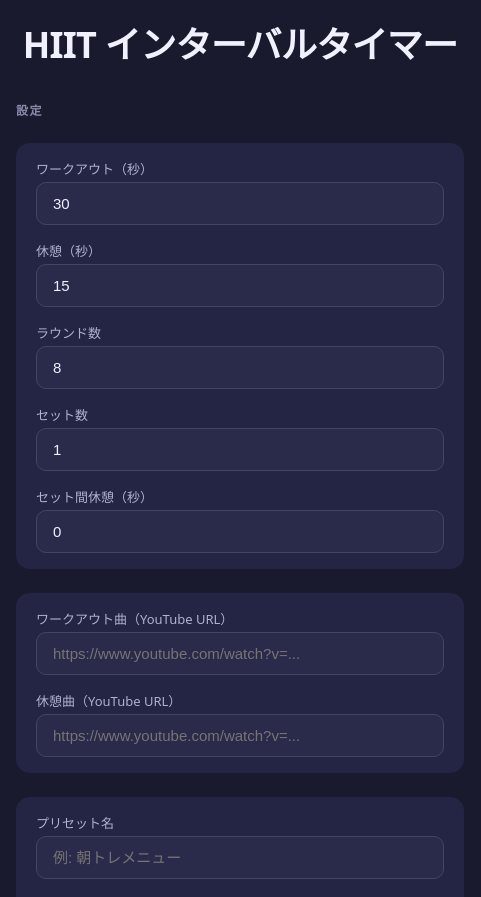
App 統合テスト › 不正なYouTube URLでバリデーションエラーが表示される
This screenshot has width=481, height=897.
Type "https://evil.com/watch?v=test" into the field labelled "ワークアウト曲（YouTube URL）". click: x=240, y=654
box: [36,632,444,675]
(page scrolled)
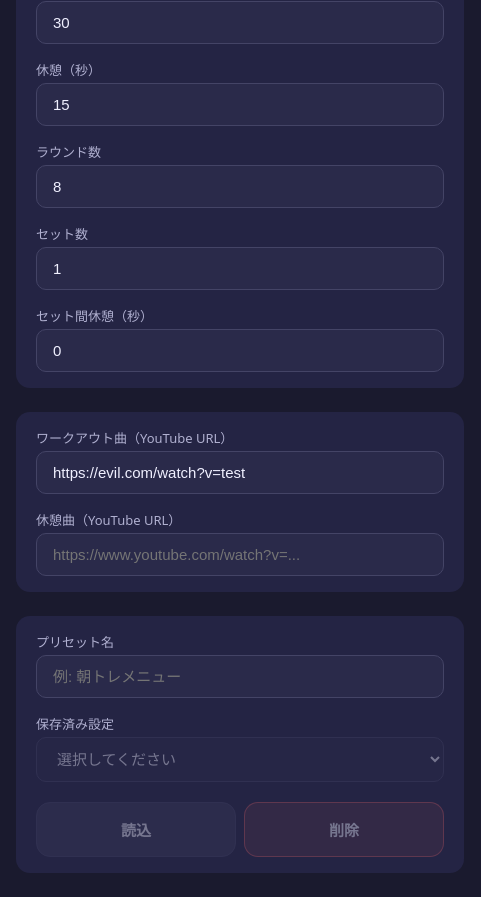
Submit the text "スタート"
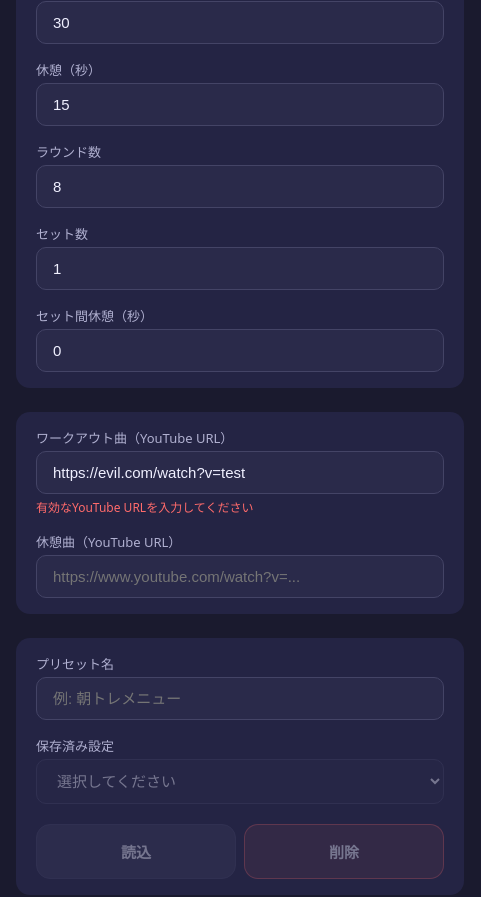
Expected: the text "有効なYouTube URLを入力してください" is shown, [36,499,253,516]
